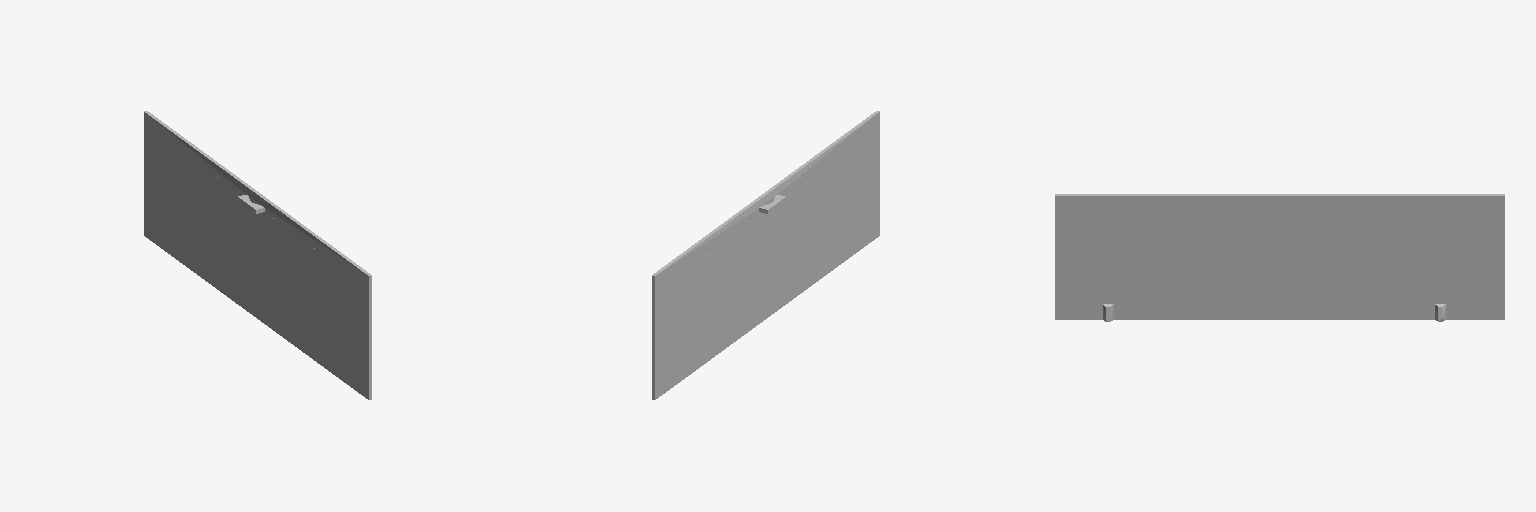
Rendered from wardrobe_door_right.obj.
3 views of the same model, side by side, from view 1: azimuth 30°, elevation 25°; view 2: azimuth 150°, elevation 25°; view 3: azimuth 270°, elevation 25° (orthographic).
Parts seen in each view (by area): view 1: convex_0, convex_1, convex_4; view 2: convex_0, convex_1, convex_4; view 3: convex_0, convex_1, convex_4, convex_6, convex_5.
Part boxes in pixels (bbox=[...]): convex_0: bbox=[144, 124, 371, 384]; convex_1: bbox=[144, 111, 371, 287]; convex_4: bbox=[179, 246, 338, 377]; convex_0: bbox=[652, 124, 879, 384]; convex_1: bbox=[652, 111, 879, 287]; convex_4: bbox=[690, 242, 850, 374]; convex_0: bbox=[1055, 208, 1504, 303]; convex_1: bbox=[1055, 194, 1504, 207]; convex_4: bbox=[1114, 304, 1434, 319]; convex_6: bbox=[1446, 304, 1504, 319]; convex_5: bbox=[1055, 304, 1102, 319].
Bounding box in the file's own units: 0.078 × 0.5028 × 1.65.